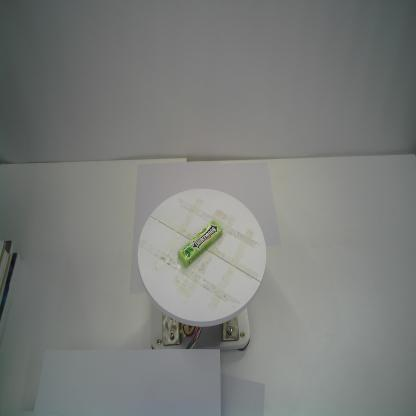Gum: (178, 219, 224, 268)
